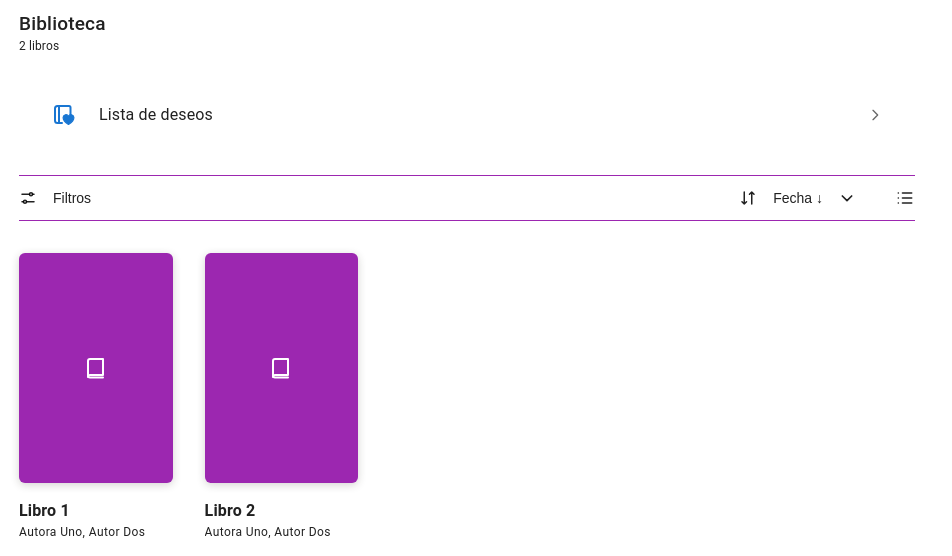
Scenario: Given the view of the library › When the user switches to the list › Then each book is a row with its reading status, and the choice is saved
The width and height of the screenshot is (952, 556).
Click the button named "Ver en lista" at (905, 198), box [879, 176, 931, 220]
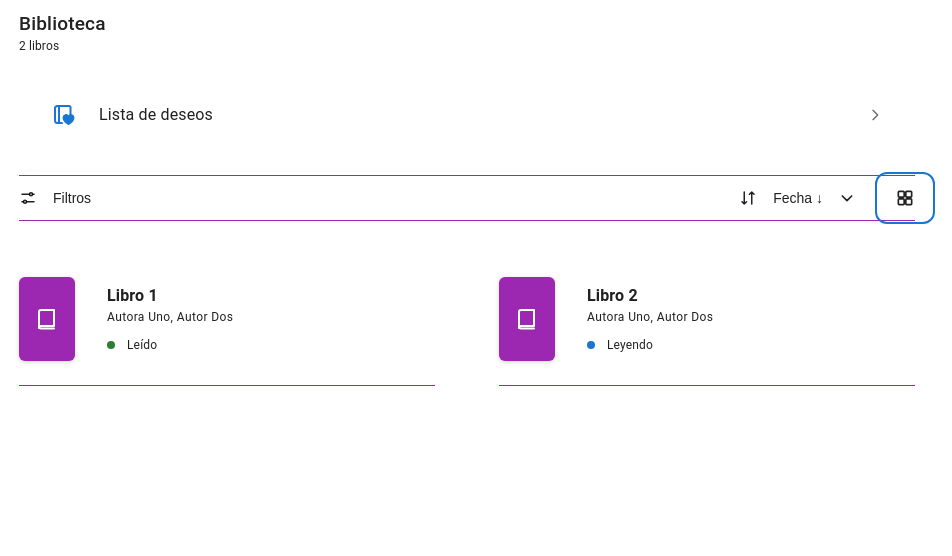
Expected: the button named "Ver en cuadrícula" is shown, [879, 176, 931, 220]
Expected: the link with aria-label "Libro 1, Autora Uno, Autor Dos, Leído" is shown, [19, 277, 233, 361]
Expected: the link with aria-label "Libro 2, Autora Uno, Autor Dos, Leyendo" is shown, [499, 277, 713, 361]
